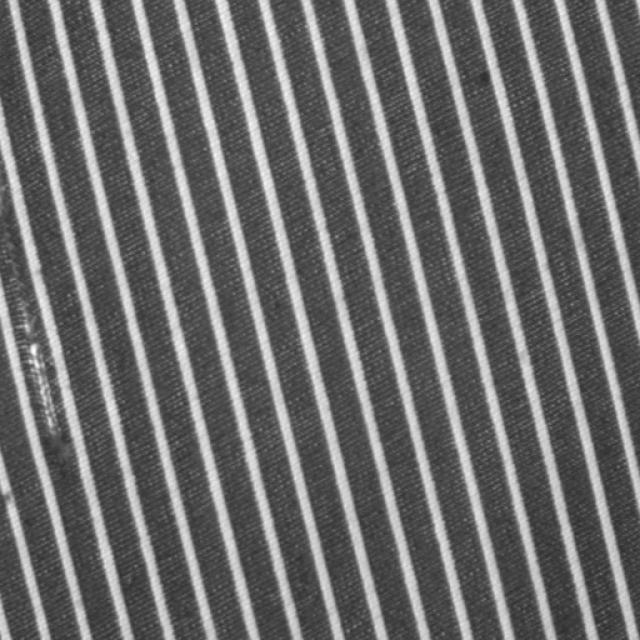Thread-Defect: (0, 151, 78, 459)
